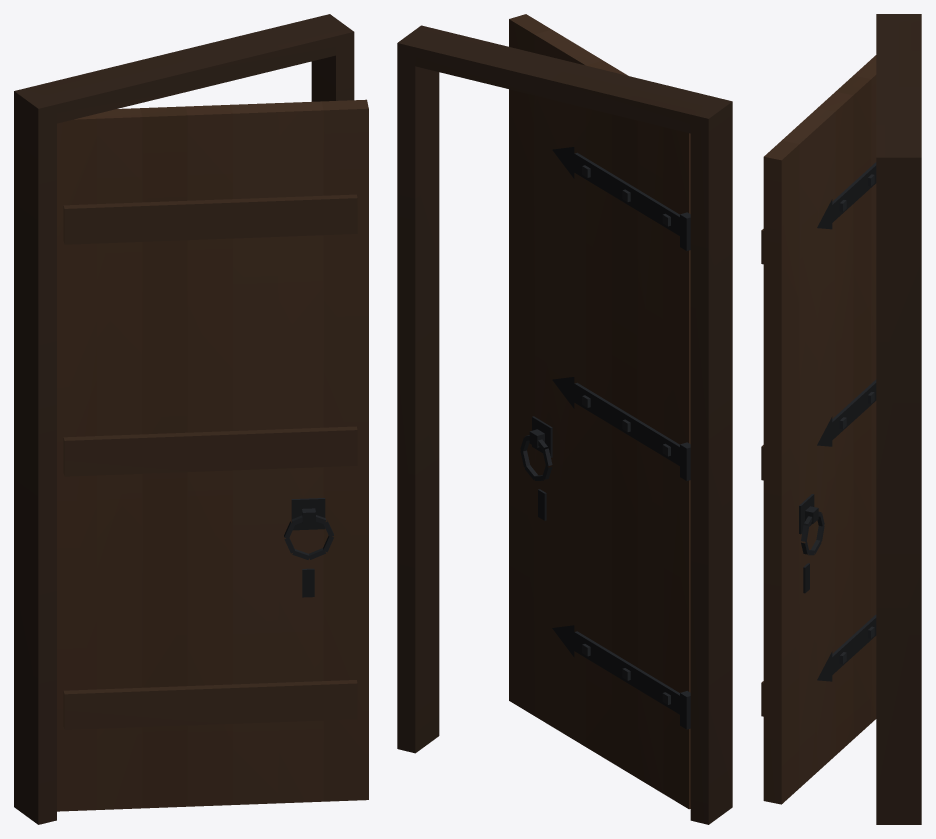
The model's file is door.oak_slim_ajar.dark.glb.
3 renders of one model, left to right at view 1: azimuth 30°, elevation 25°; view 2: azimuth 150°, elevation 25°; view 3: azimuth 270°, elevation 25°, orthographic. The views are drawn at different scales.
Parts seen in each view (by area): view 1: door_oak_slim_ajar_dark; view 2: door_oak_slim_ajar_dark; view 3: door_oak_slim_ajar_dark.
Boxes of the visible parts, <box> form: door_oak_slim_ajar_dark: <box>14,14,368,824</box>; door_oak_slim_ajar_dark: <box>397,14,732,824</box>; door_oak_slim_ajar_dark: <box>761,14,921,824</box>.
Size of what is drawn, in the model's own units: 1.2 by 2.6 by 0.5664.
